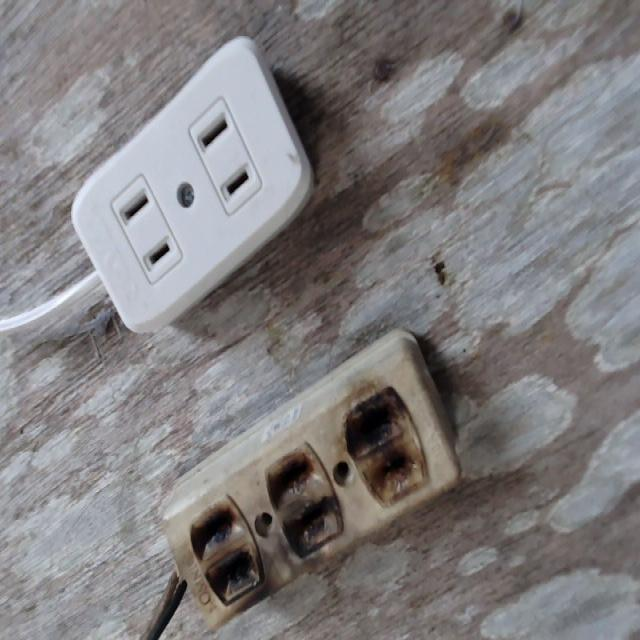-: (175, 383, 428, 609)
